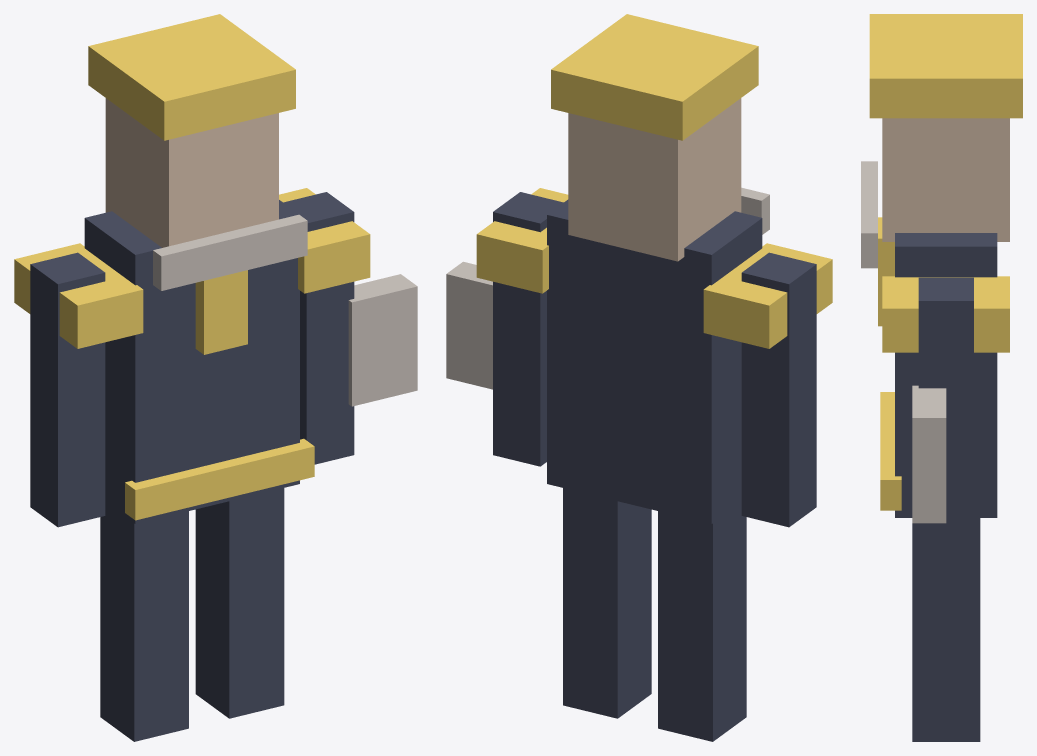
Rendered from 12_vale_gantryn_watcher_near_corporate.glb.
3 renders of one model, left to right at view 1: azimuth 30°, elevation 25°; view 2: azimuth 150°, elevation 25°; view 3: azimuth 270°, elevation 25°, orthographic.
Visible parts, largest first — view 1: Vale Gantryn, Watcher near Corporate; view 2: Vale Gantryn, Watcher near Corporate; view 3: Vale Gantryn, Watcher near Corporate.
Boxes of the visible parts, x1,y1,x2,y2 form: Vale Gantryn, Watcher near Corporate: [14, 14, 417, 741]; Vale Gantryn, Watcher near Corporate: [446, 14, 832, 741]; Vale Gantryn, Watcher near Corporate: [861, 14, 1022, 741].
Size of the model in its own units: 0.9161 by 1.6 by 0.3571.
